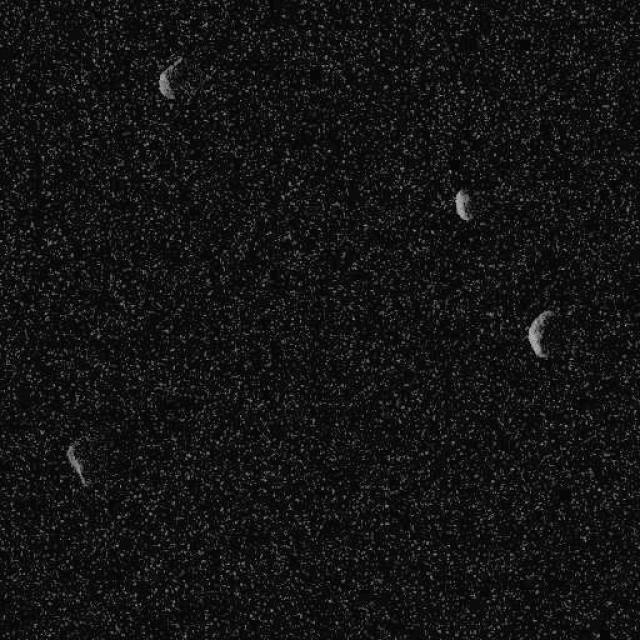D2: (156, 55, 204, 103), (526, 308, 555, 360), (65, 442, 90, 488), (452, 186, 472, 222)
